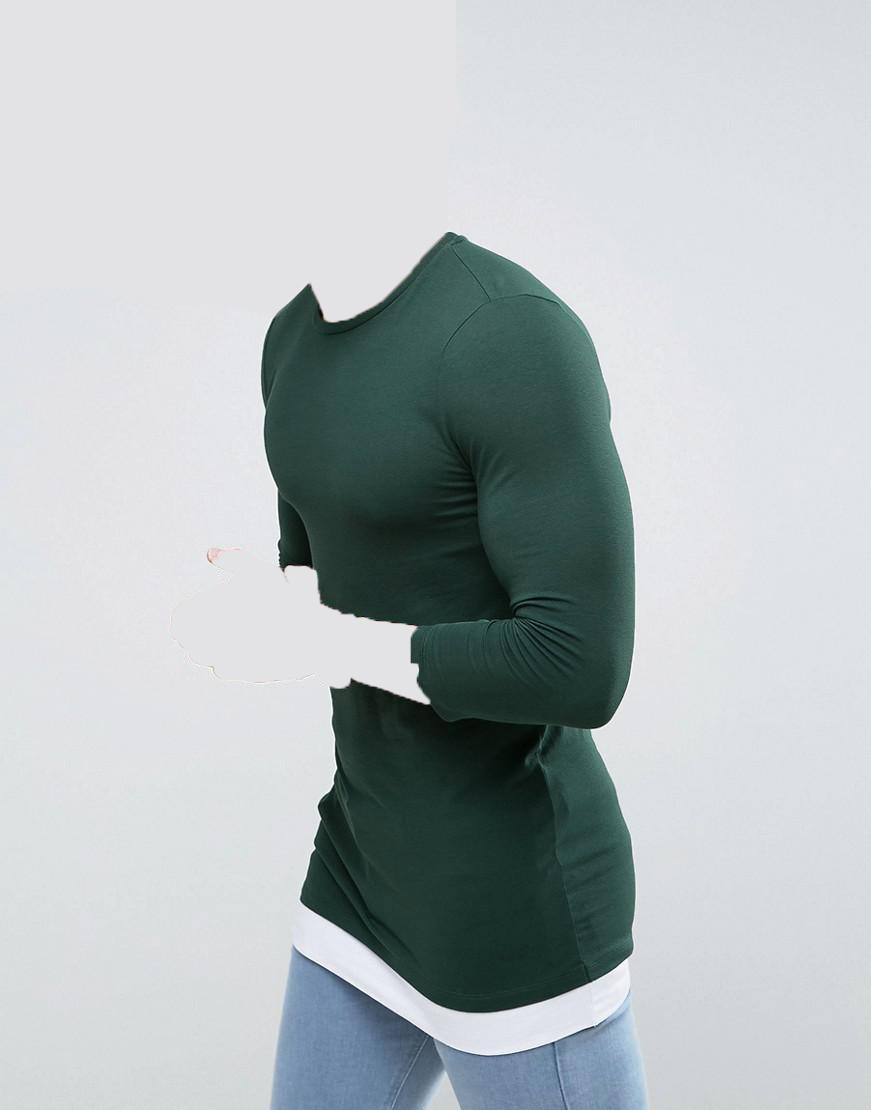teeshirt: (246, 229, 674, 996)
